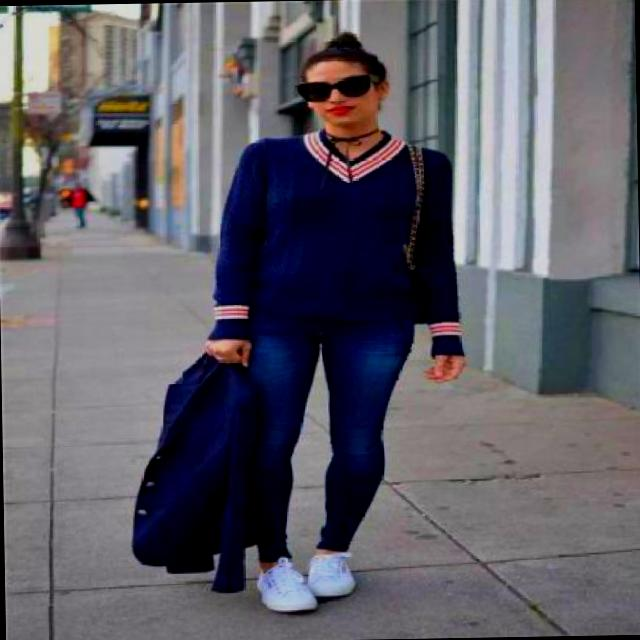Person: (135, 10, 513, 640)
